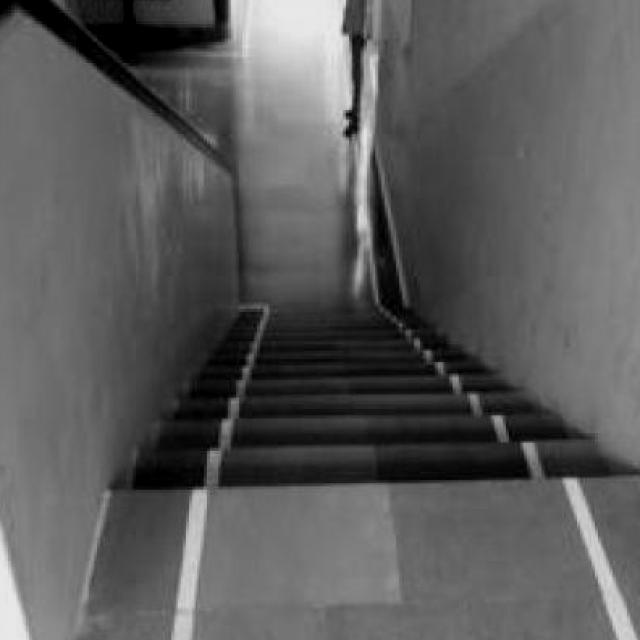stair: (92, 351, 609, 540)
